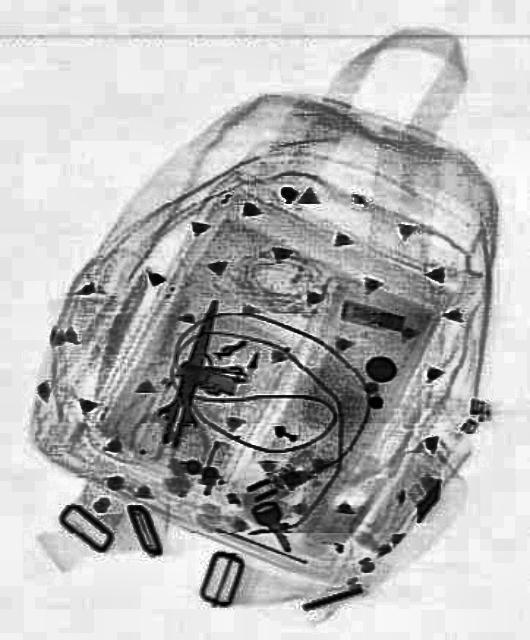Knife: (148, 292, 232, 452)
